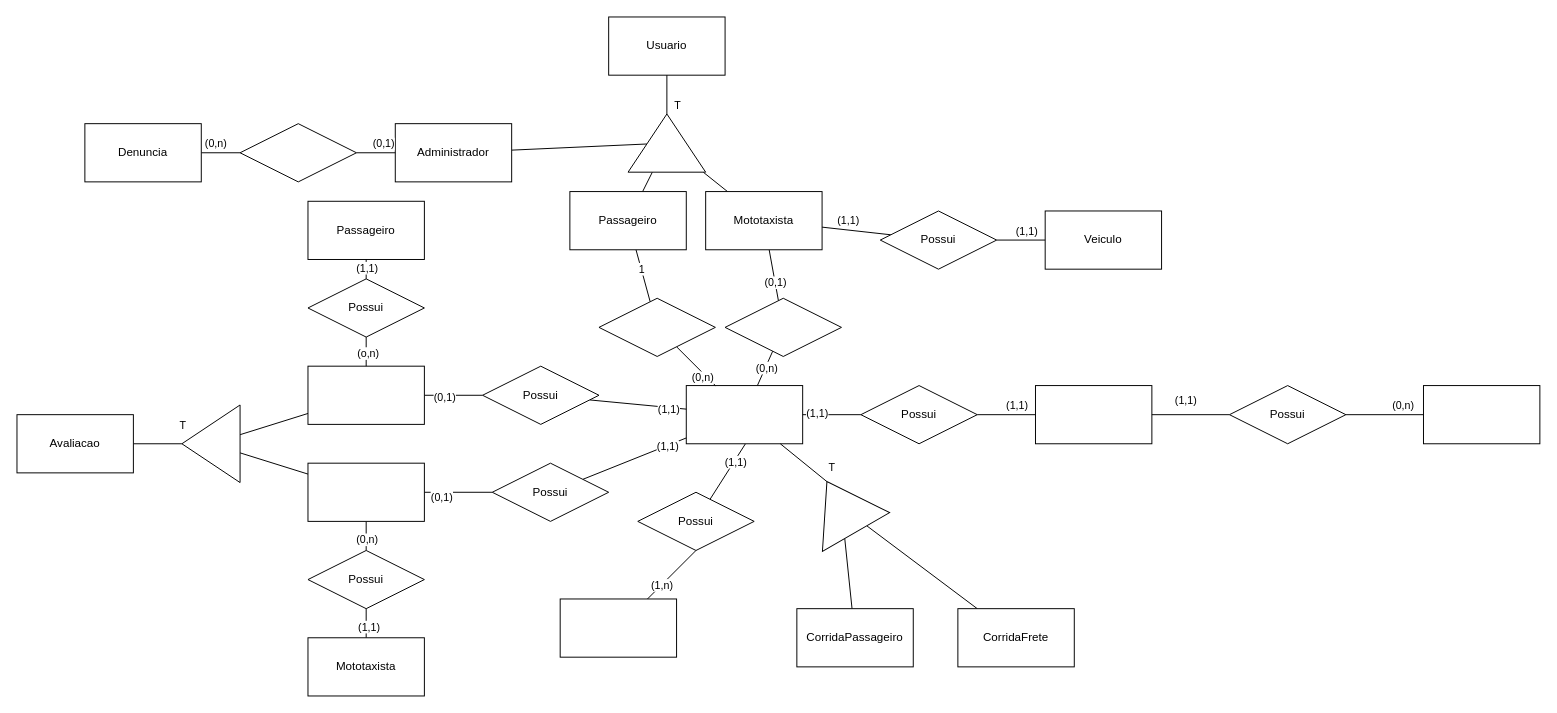
The diagram is 1557 pixels wide and 713 high, and some of its shapes have lost their labels. The shapes that lost their labels are listed below. From the top down, each one's centre as x and y in pixels, then its label:
At (x=297, y=152): "Valida".
At (x=656, y=326): "Solicita".
At (x=782, y=326): "Realiza".
At (x=365, y=394): "AvaliacaoPassageiro".
At (x=744, y=414): "Corrida".
At (x=1093, y=414): "Chat".
At (x=1481, y=414): "Mensagem".
At (x=365, y=491): "AvaliacaMototaxista".
At (x=618, y=627): "Localizacao".
